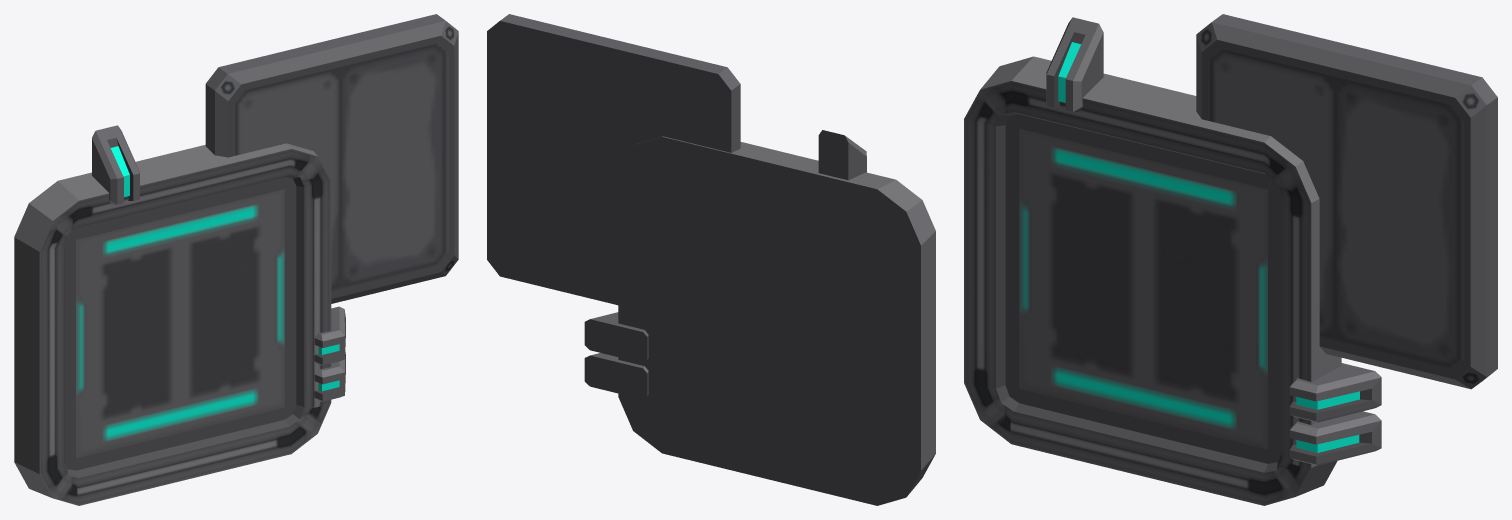
File: SM_Prop_Greebles_04.fbx
3 renders of one model, left to right at view 1: azimuth 30°, elevation 25°; view 2: azimuth 150°, elevation 25°; view 3: azimuth 330°, elevation 25°, orthographic. The views are drawn at different scales.
Visible parts, largest first — view 1: SM_Prop_Greebles_04; view 2: SM_Prop_Greebles_04; view 3: SM_Prop_Greebles_04.
Part boxes in pixels (x1,y1,x2,y2): SM_Prop_Greebles_04: [14, 14, 458, 505]; SM_Prop_Greebles_04: [487, 14, 935, 505]; SM_Prop_Greebles_04: [964, 14, 1497, 505].
Bounding box in the file's own units: 160 × 138 × 17.72.
